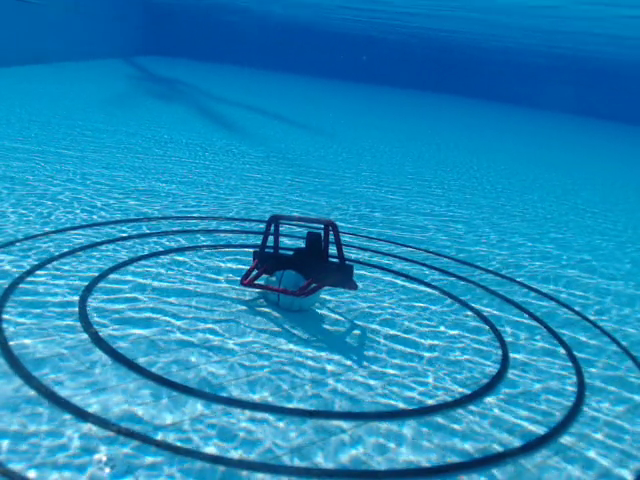submarine: (237, 212, 363, 298)
